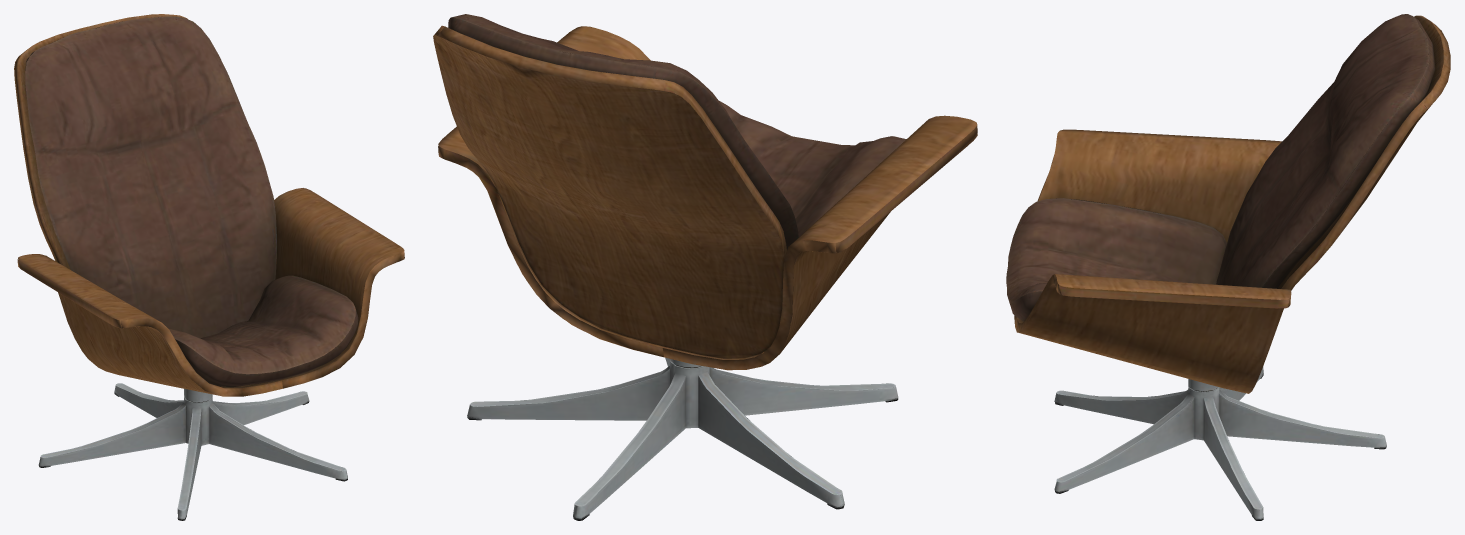
File: distance.fbx
3 views of the same model, side by side, from view 1: azimuth 30°, elevation 25°; view 2: azimuth 150°, elevation 25°; view 3: azimuth 270°, elevation 25° (orthographic). The views are drawn at different scales.
Parts seen in each view (by area): view 1: mid_century_lounge_chair; view 2: mid_century_lounge_chair; view 3: mid_century_lounge_chair.
Boxes of the visible parts, <box> form: mid_century_lounge_chair: <box>14,14,404,520</box>; mid_century_lounge_chair: <box>433,14,977,520</box>; mid_century_lounge_chair: <box>1006,14,1450,520</box>.
Size of the model in its own units: 101 by 117 by 119.
